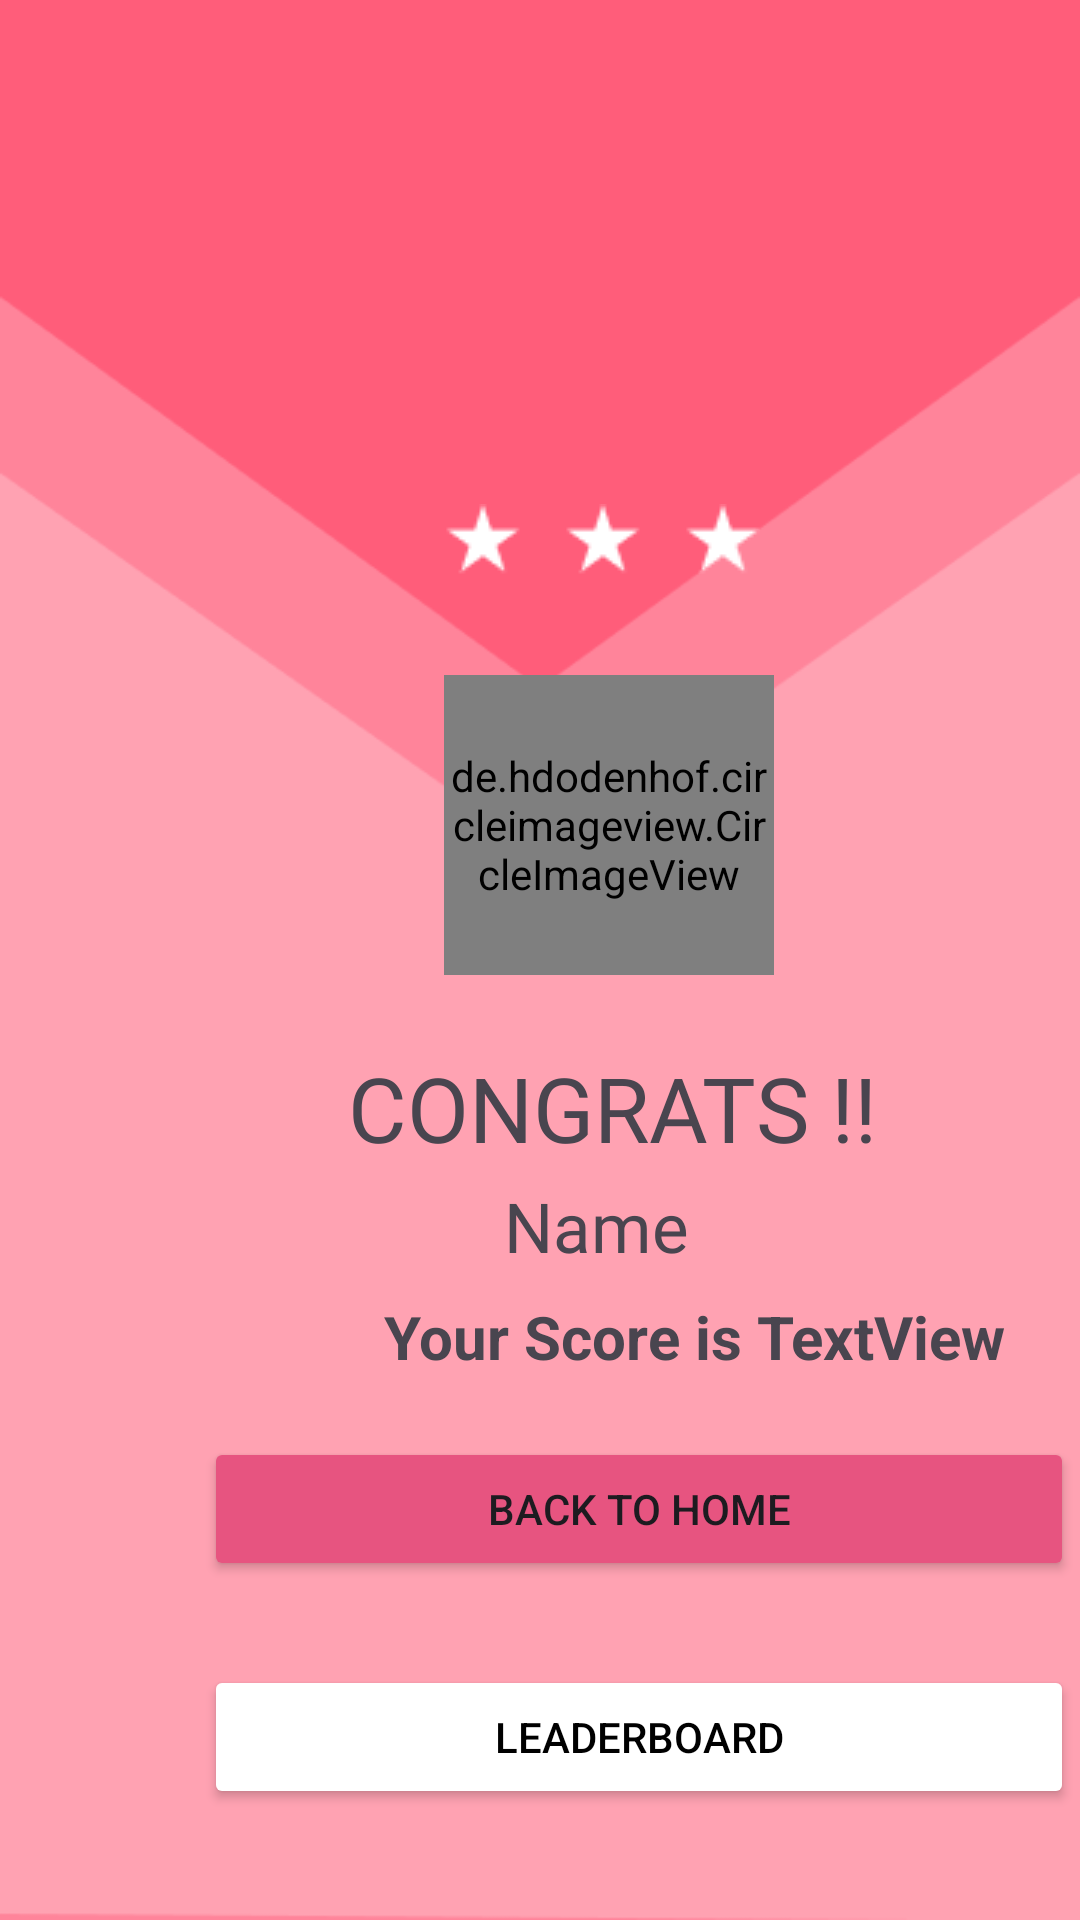

Icons on this 1080w x 1920h Android screen, each with the point to tap as [x,y]:
stars: [543,539]
